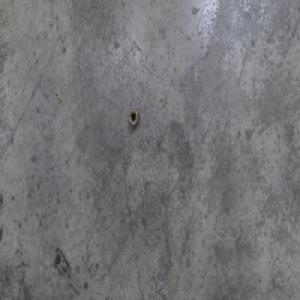Nut: (127, 107, 139, 128)
